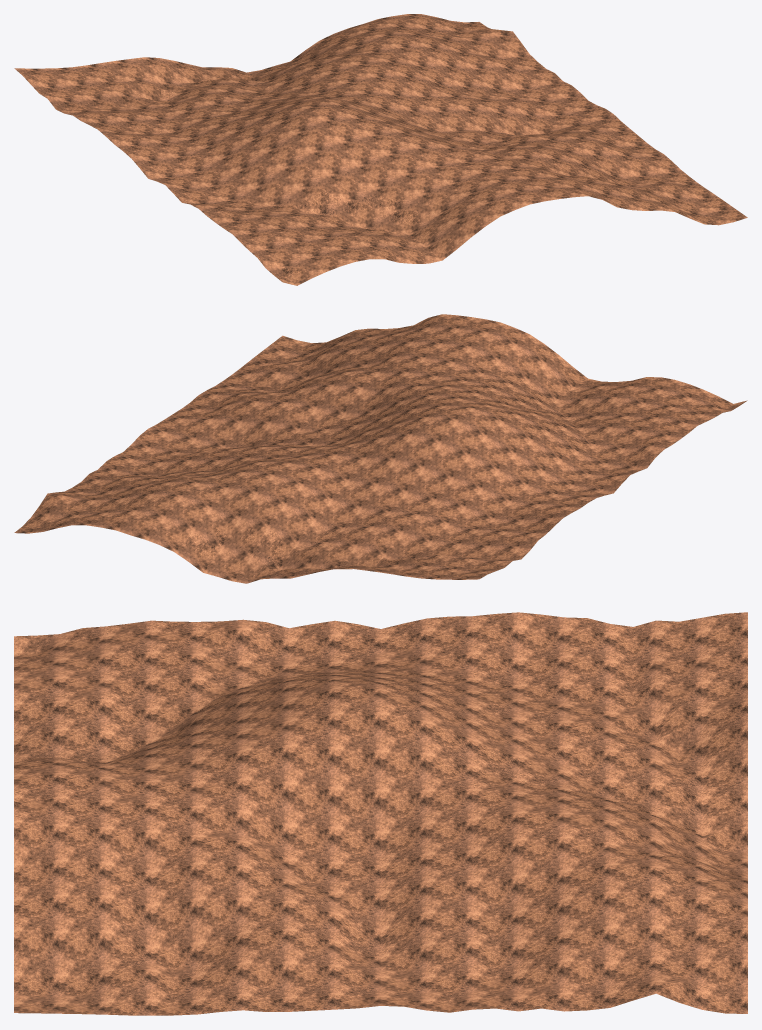
Rendered from terrain_07_00.dae.
3 renders of one model, top to bottom at view 1: azimuth 30°, elevation 25°; view 2: azimuth 150°, elevation 25°; view 3: azimuth 270°, elevation 25°, orthographic. The views are drawn at different scales.
Parts seen in each view (by area): view 1: terrain_07_00-node; view 2: terrain_07_00-node; view 3: terrain_07_00-node.
Boxes of the visible parts, x1,y1,x2,y2 form: terrain_07_00-node: (14,14,747,285); terrain_07_00-node: (14,314,747,583); terrain_07_00-node: (14,612,747,1015).
Bounding box in the file's own units: 128 × 128 × 24.03.
1 material, 1 textured.
